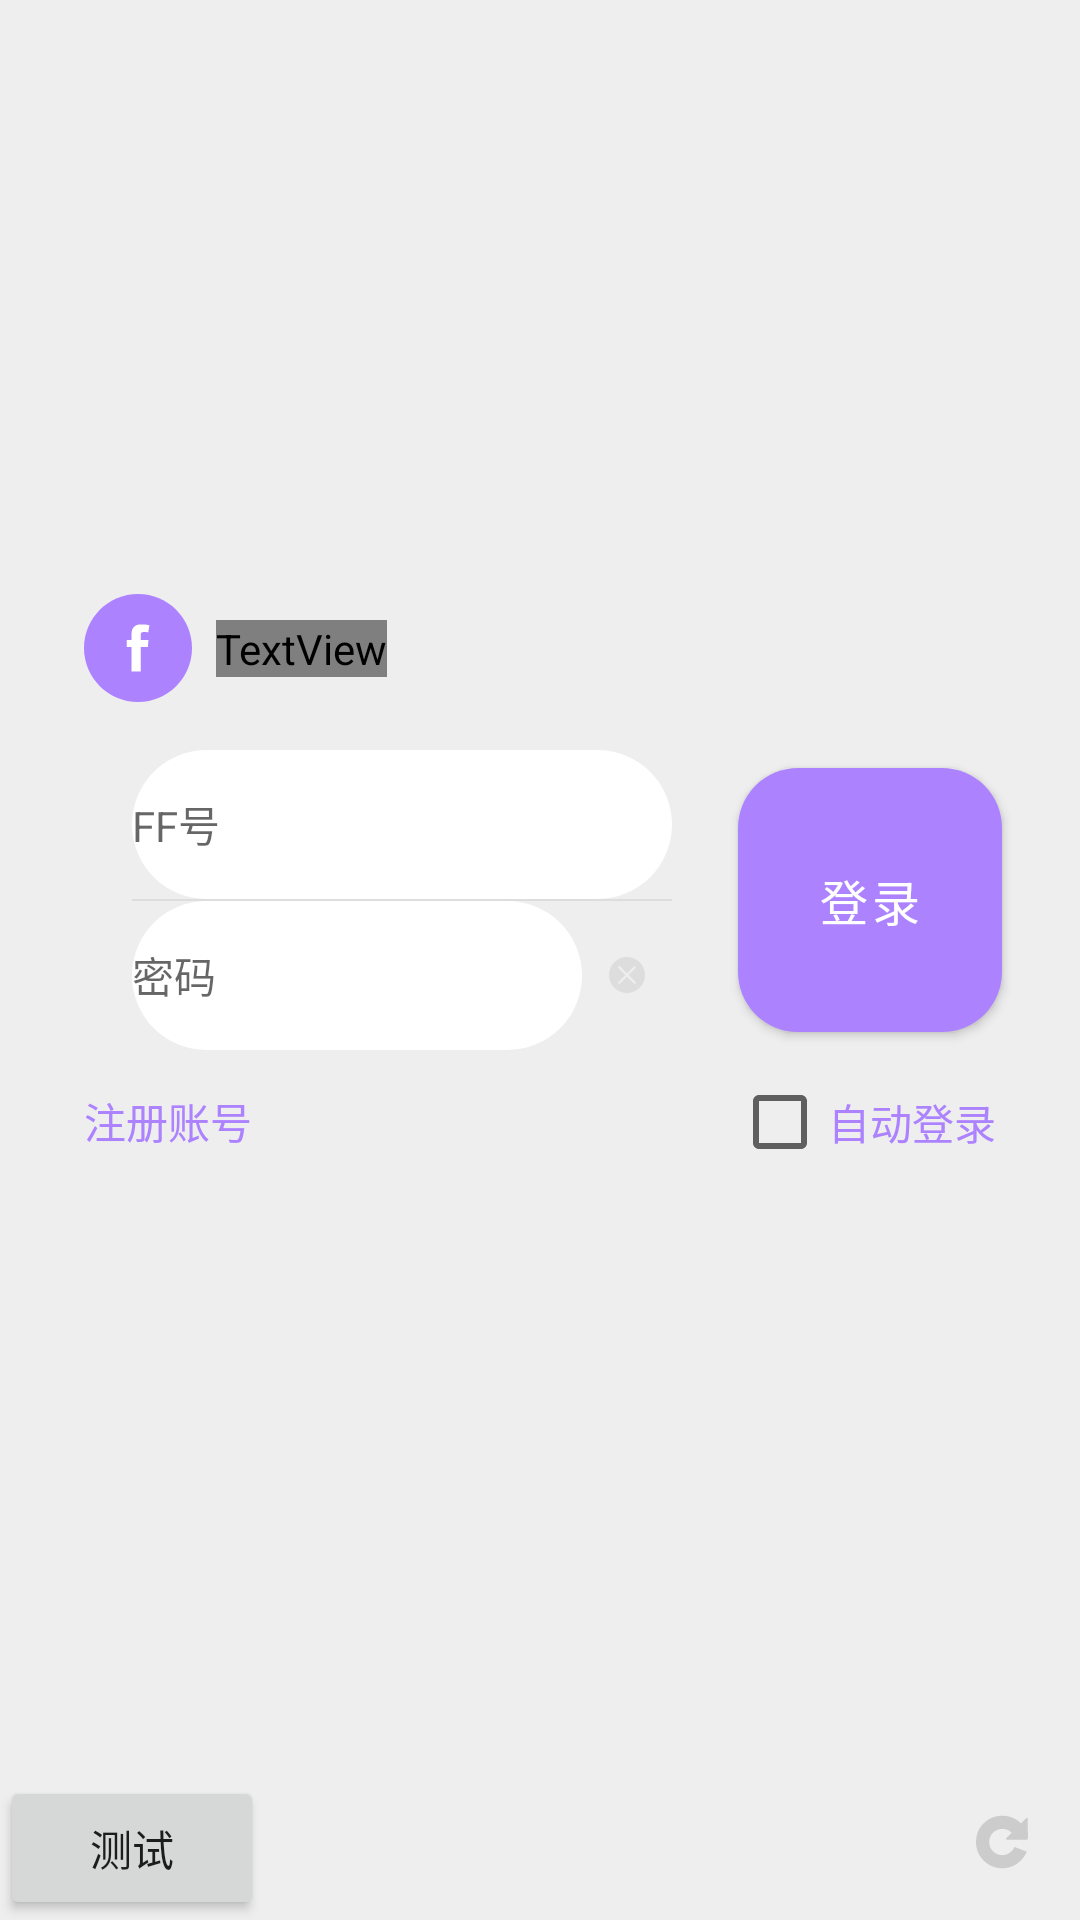

Where icons sit on this 1080 × 1920 app screen, as (x1, y1, x2, y2):
点此更新: (976, 1816, 1028, 1868)
